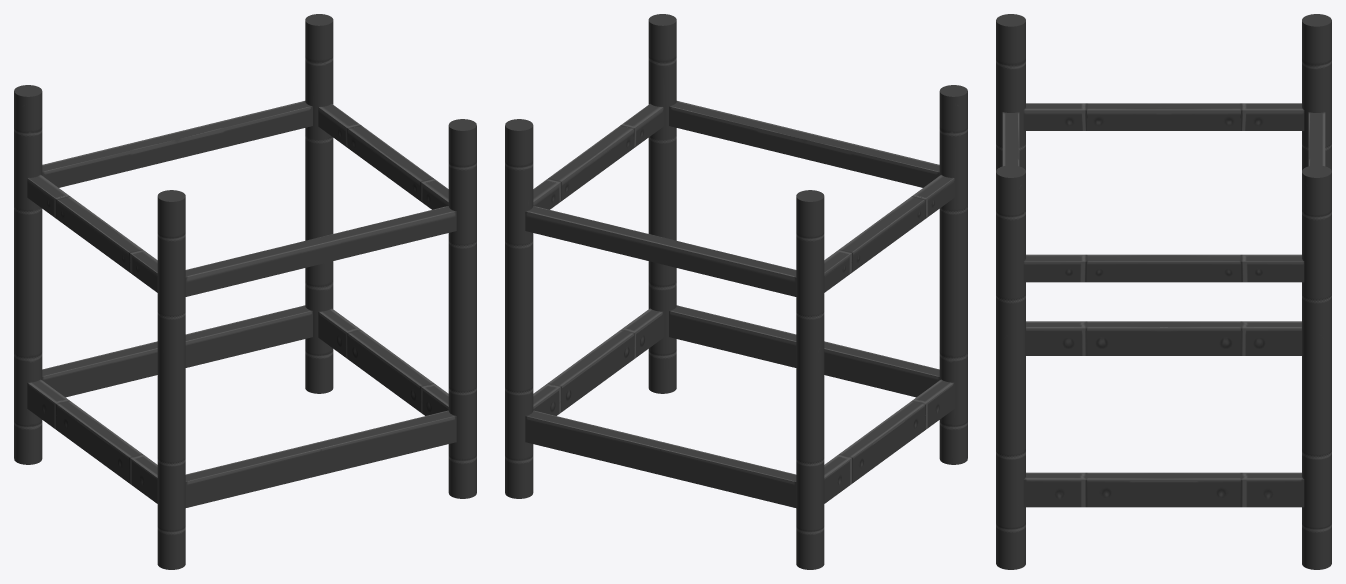
Rendered from Farm 1.fbx.
The picture shows the model from 3 angles, left to right: view 1: azimuth 30°, elevation 25°; view 2: azimuth 150°, elevation 25°; view 3: azimuth 270°, elevation 25°; orthographic projection. The views are drawn at different scales.
Visible parts, largest first — view 1: Cylinder.004; view 2: Cylinder.004; view 3: Cylinder.004.
Part boxes in pixels (box(x1,y1,x2,y2)): Cylinder.004: box(14, 14, 476, 569); Cylinder.004: box(505, 14, 967, 569); Cylinder.004: box(996, 14, 1331, 569).
Size of the model in its own units: 338 by 376 by 292.
